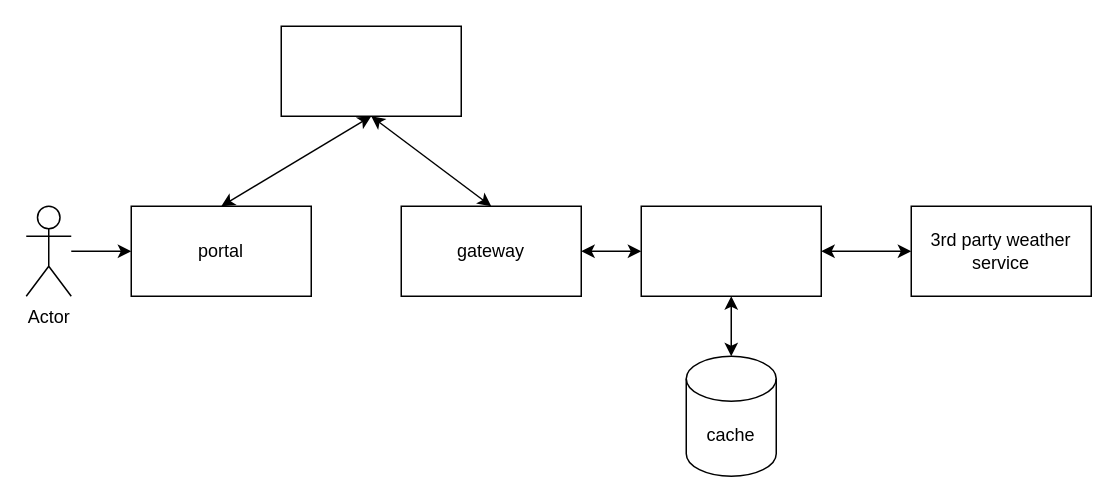
This 1118x503 diagram has some shape labels left out. The shapes that lost their labels are listed below. From the top down, each one's centre as x and y in pixels, then its label:
At point (370, 70): "IdP".
At point (730, 250): "weather service".
